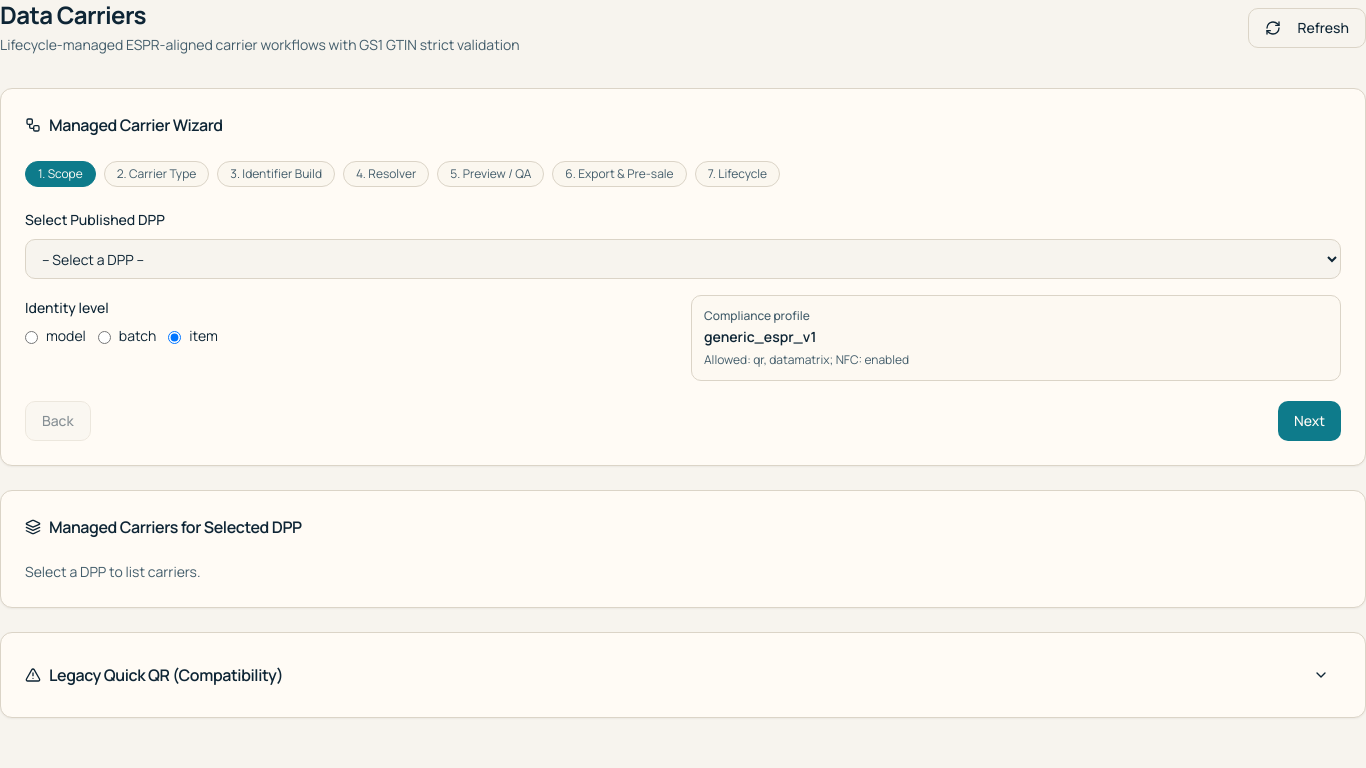
Scenario: DataCarriersPage › creates a direct-url managed carrier via wizard flow
Select "PART-1 - SER-1" in the dropdown labelled "Select Published DPP": (683,259) [25,239,1341,279]
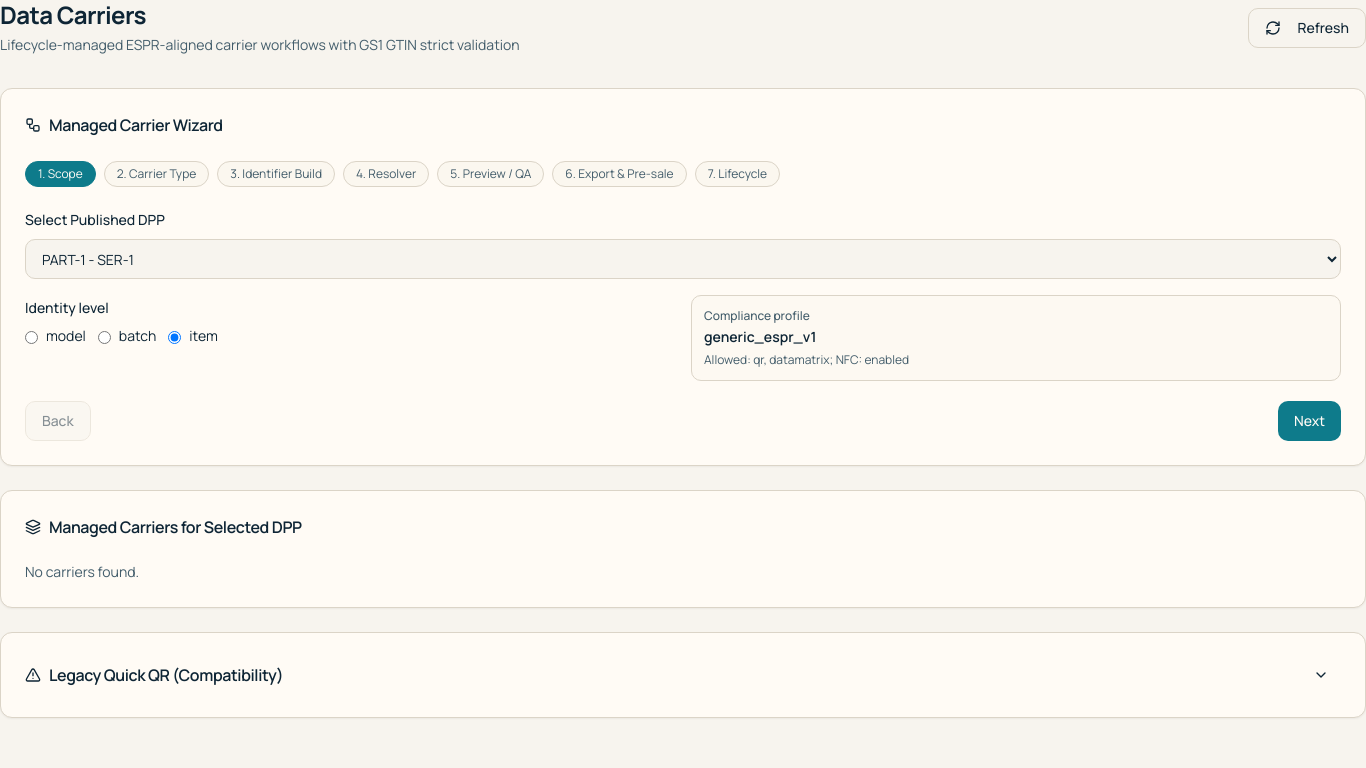
Click the button "Next": (1310,421) [1278,401,1341,441]
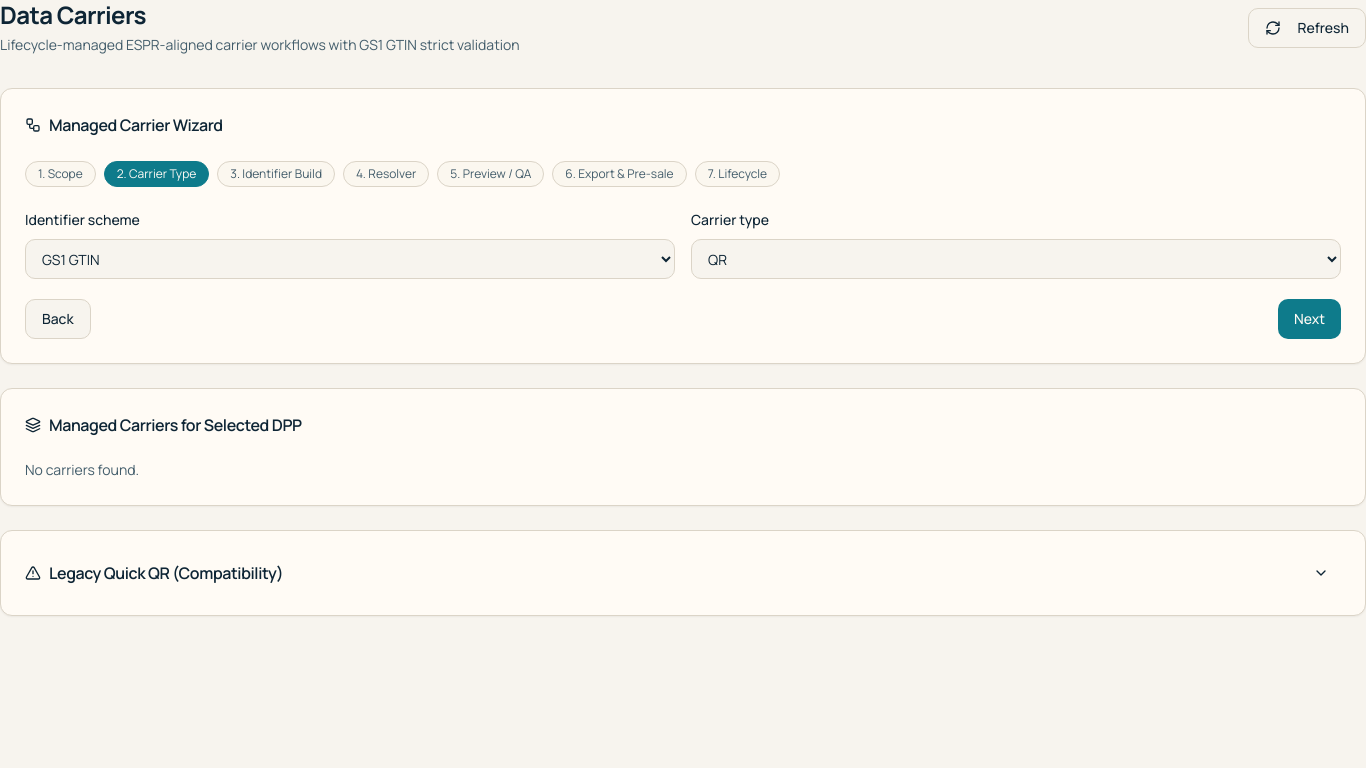
Select "Direct URL" in the dropdown labelled "Identifier scheme": (350,259) [25,239,675,279]
Click the button "Next": (1310,319) [1278,299,1341,339]
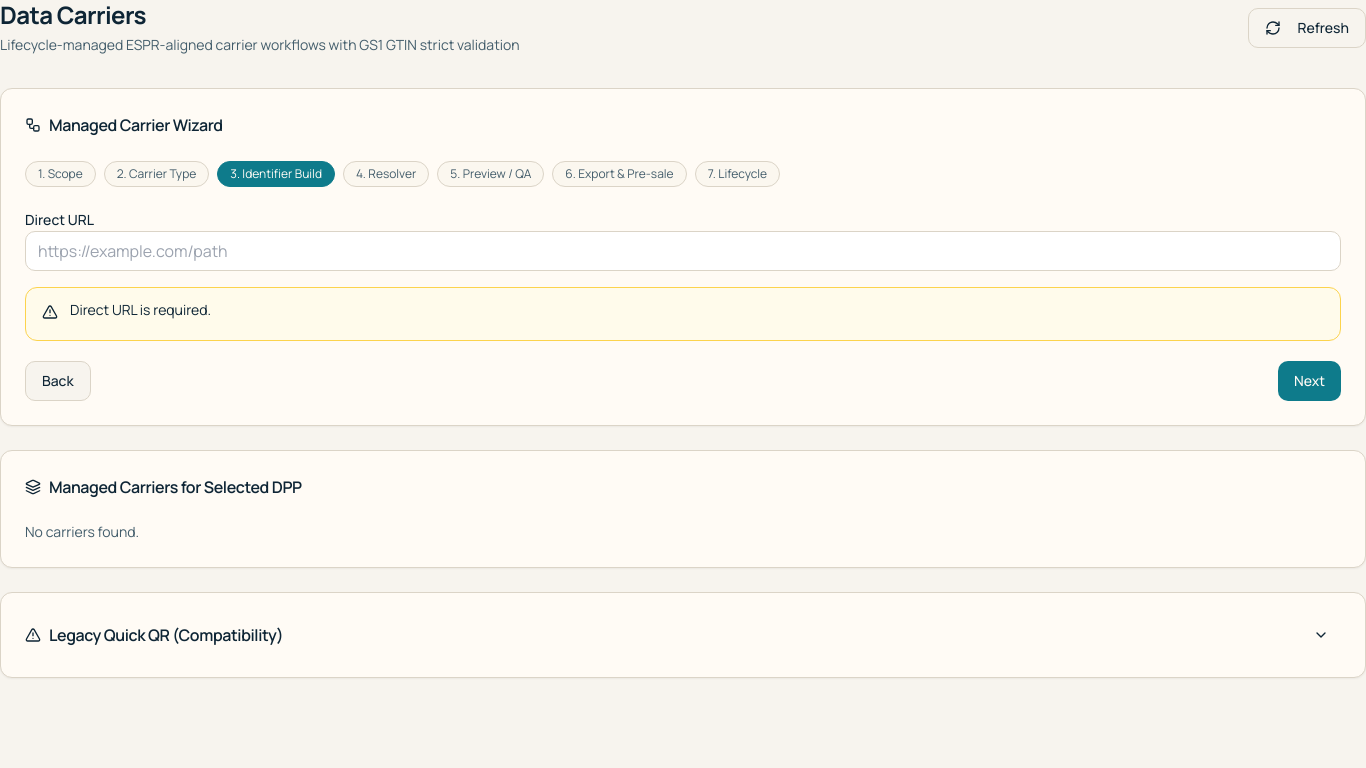
In the field with placeholder "https://example.com/path": (683,251) [25,231,1341,271], type "https://example.com/passport"
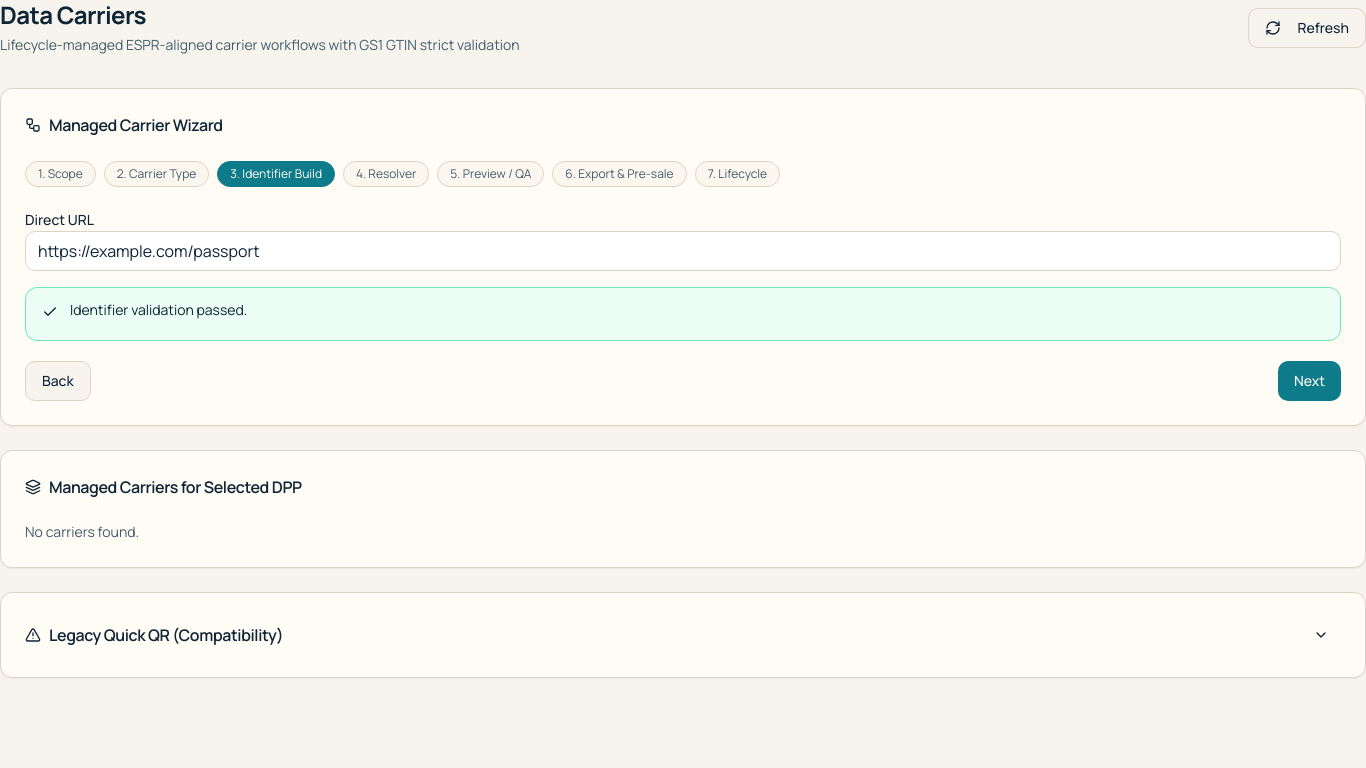
Click the button "Next": (1310,381) [1278,361,1341,401]
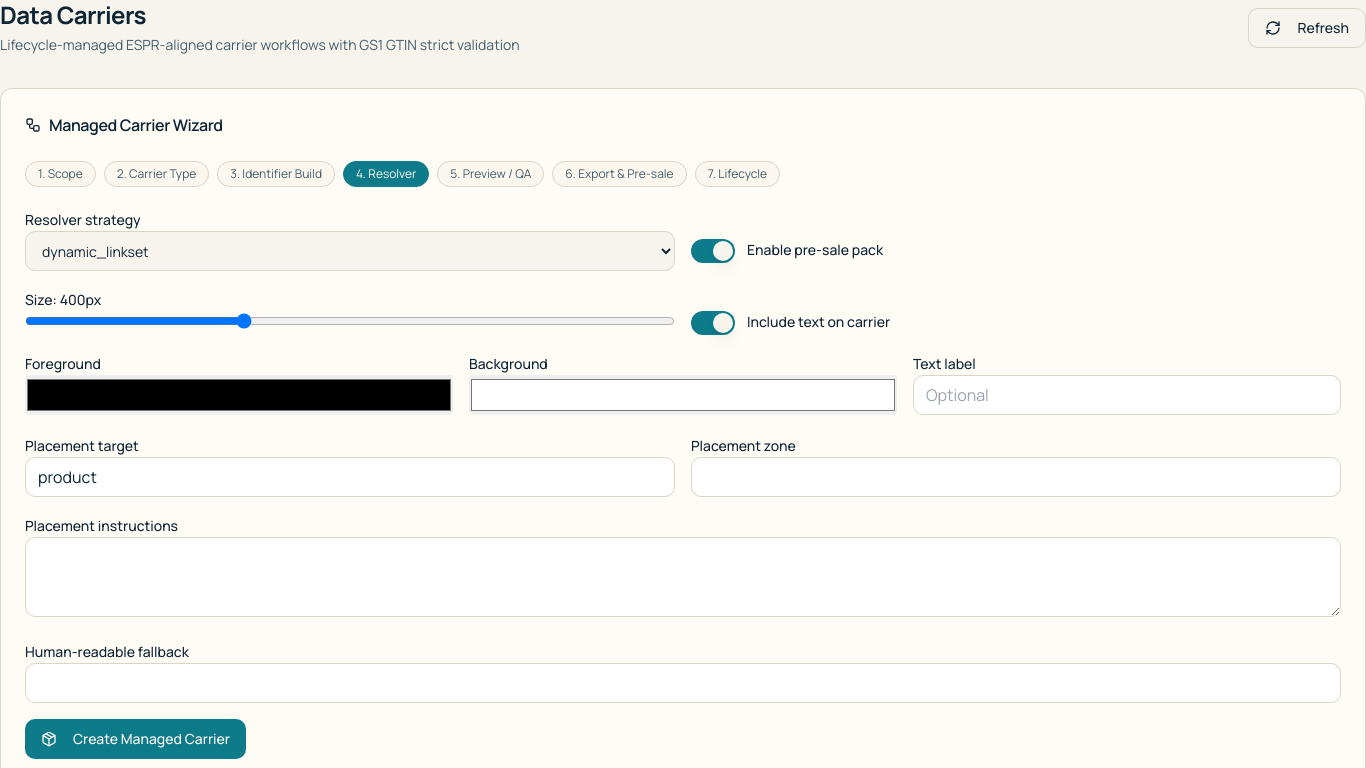
Now the button "Create Managed Carrier" is enabled
Click the button "Create Managed Carrier": (136,739) [25,719,246,759]
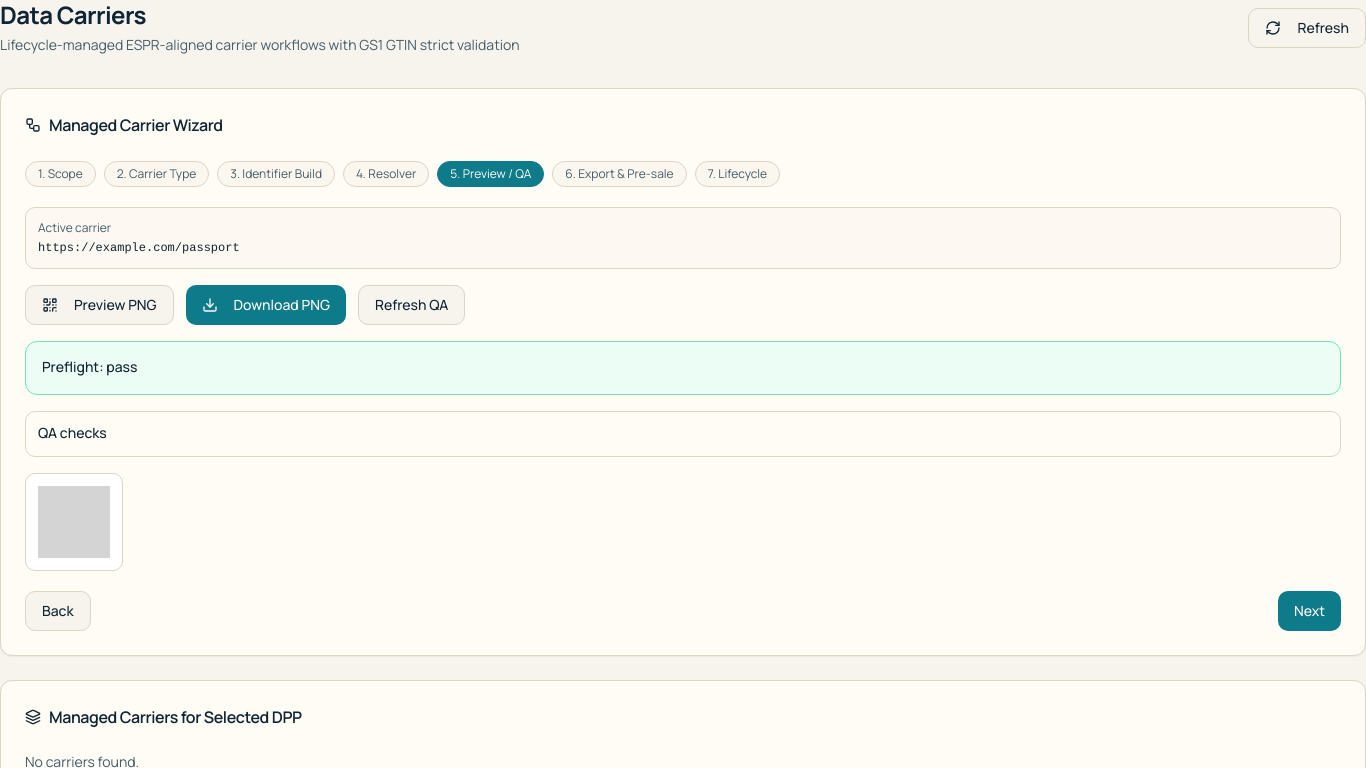
Now the text "Active carrier" is shown, box [38,219,111,236]
